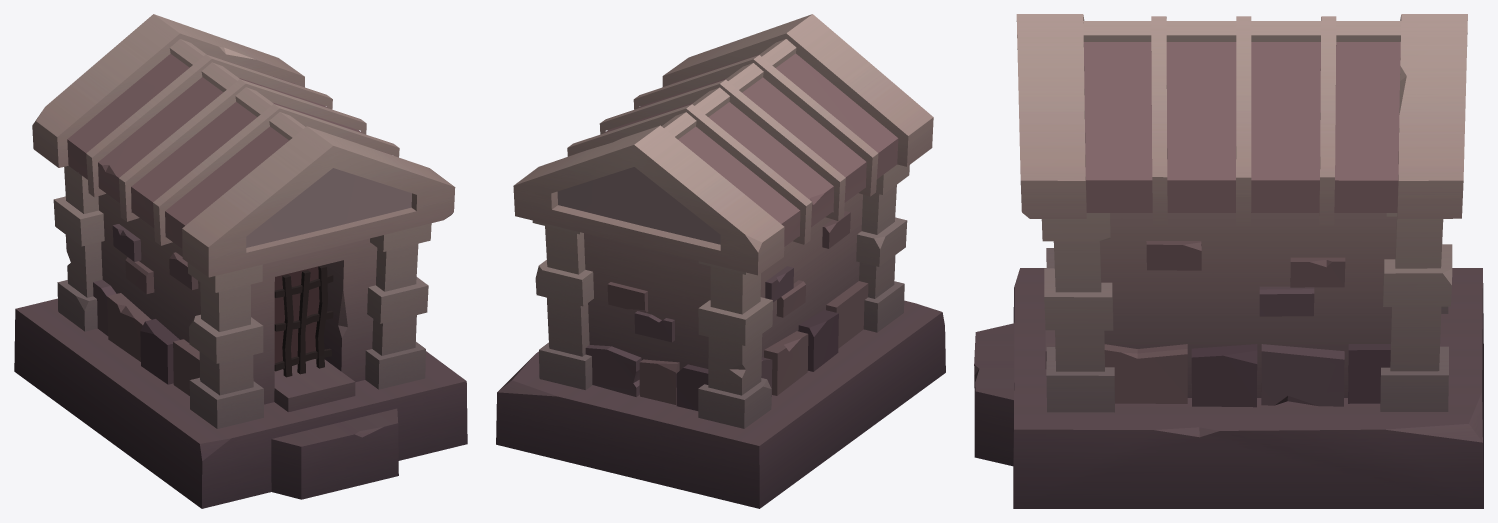
File: mausoleumSmallSkewed.glb
3 views of the same model, side by side, from view 1: azimuth 30°, elevation 25°; view 2: azimuth 150°, elevation 25°; view 3: azimuth 270°, elevation 25° (orthographic). The views are drawn at different scales.
Visible parts, largest first — view 1: mausoleumSmallSkewed; view 2: mausoleumSmallSkewed; view 3: mausoleumSmallSkewed.
Part boxes in pixels (left/top/right/bottom): mausoleumSmallSkewed: left=14, top=14, right=467, bottom=508; mausoleumSmallSkewed: left=496, top=14, right=945, bottom=508; mausoleumSmallSkewed: left=974, top=14, right=1483, bottom=508.
Bounding box in the file's own units: 3.52 × 4.15 × 4.64.
Materials: 1 (1 with a texture image).
